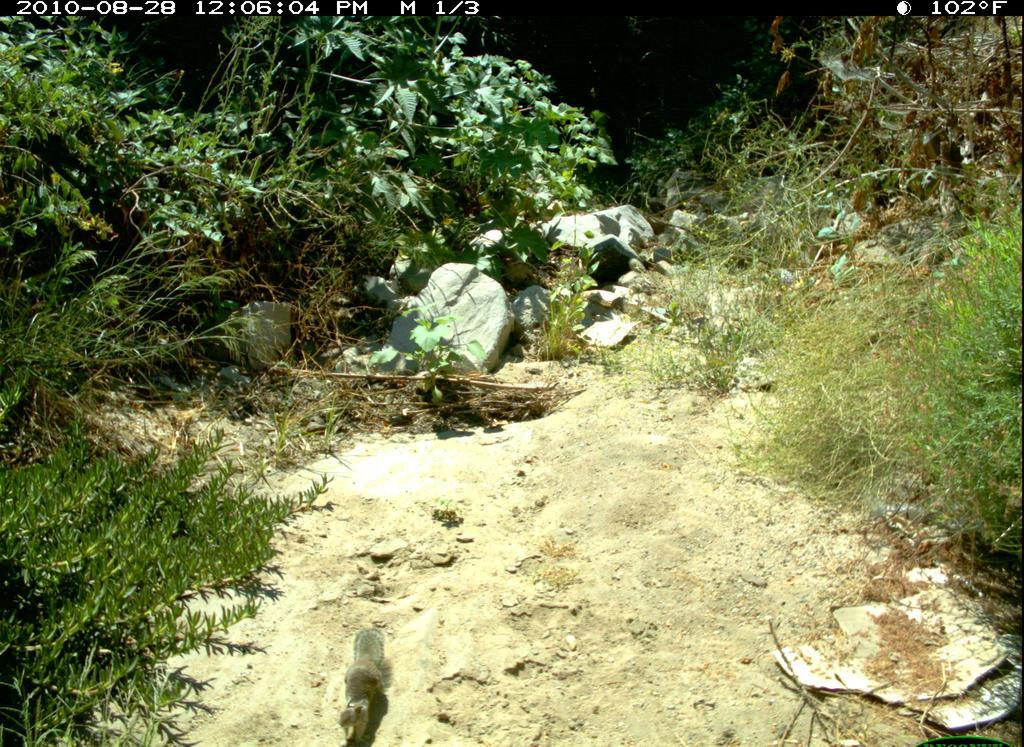squirrel: (318, 620, 396, 744)
